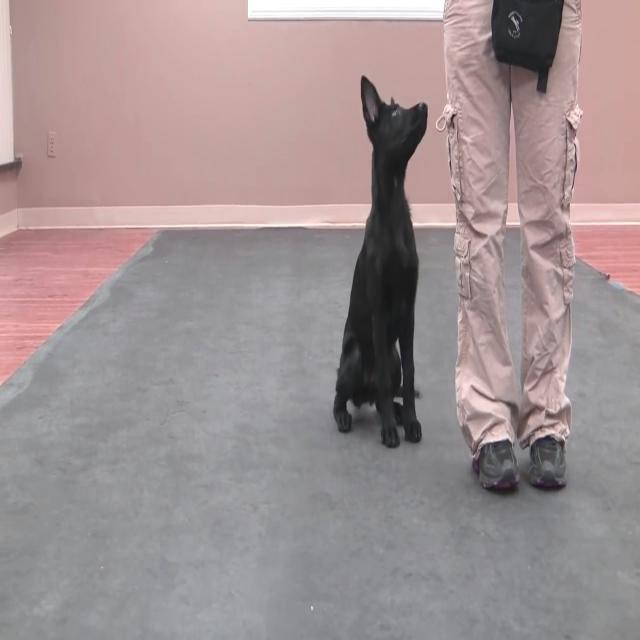Unleashed_Dog: (332, 0, 559, 450)
